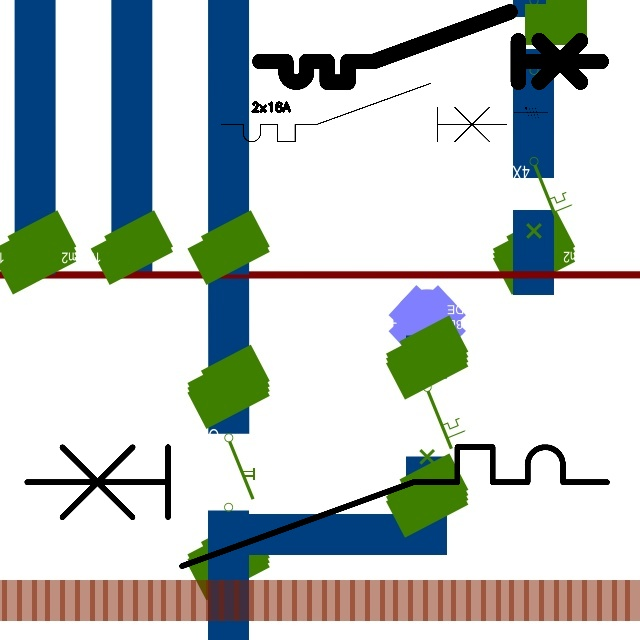interruptor_termomagnetico: (12, 432, 622, 581), (251, 3, 610, 91), (214, 76, 513, 149)
